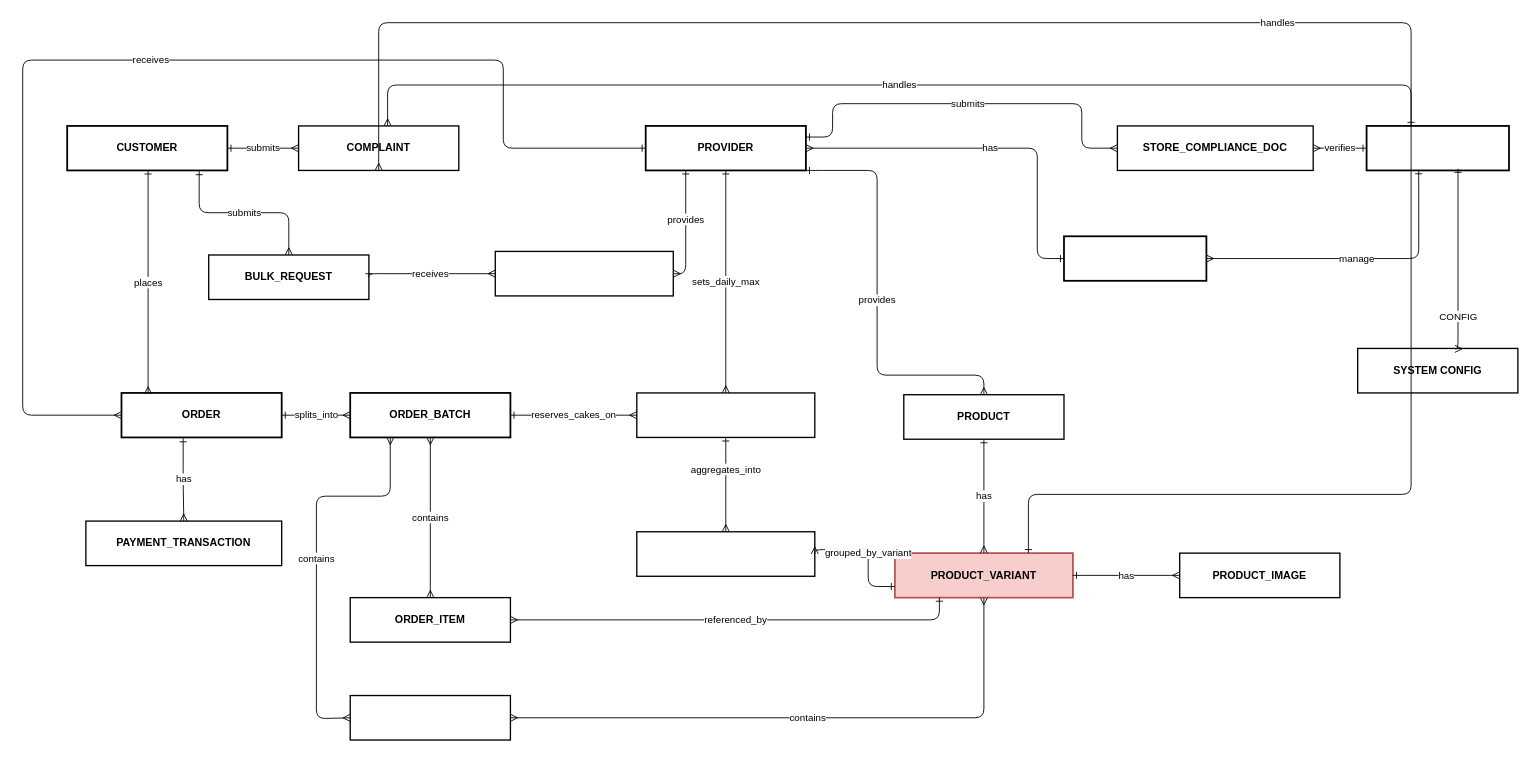
Some shapes in this 1534 by 757 pixel diagram are drawn without their labels. The centre of each missing label's shape, as x and y in pixels:
CUSTOM_BOX: the point at 430,717
DAILY_CAPACITY: the point at 725,415
PLATFORM_ADMIN: the point at 1437,148
PRODUCTION_BATCH: the point at 725,554
PROVIDER_QUOTATION: the point at 584,273
SUBSCRIPTION: the point at 1135,258
